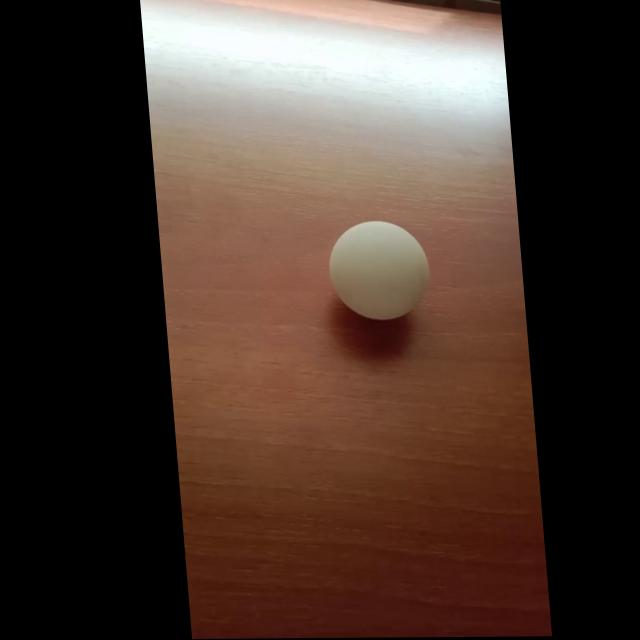white ball: (325, 219, 434, 322)
